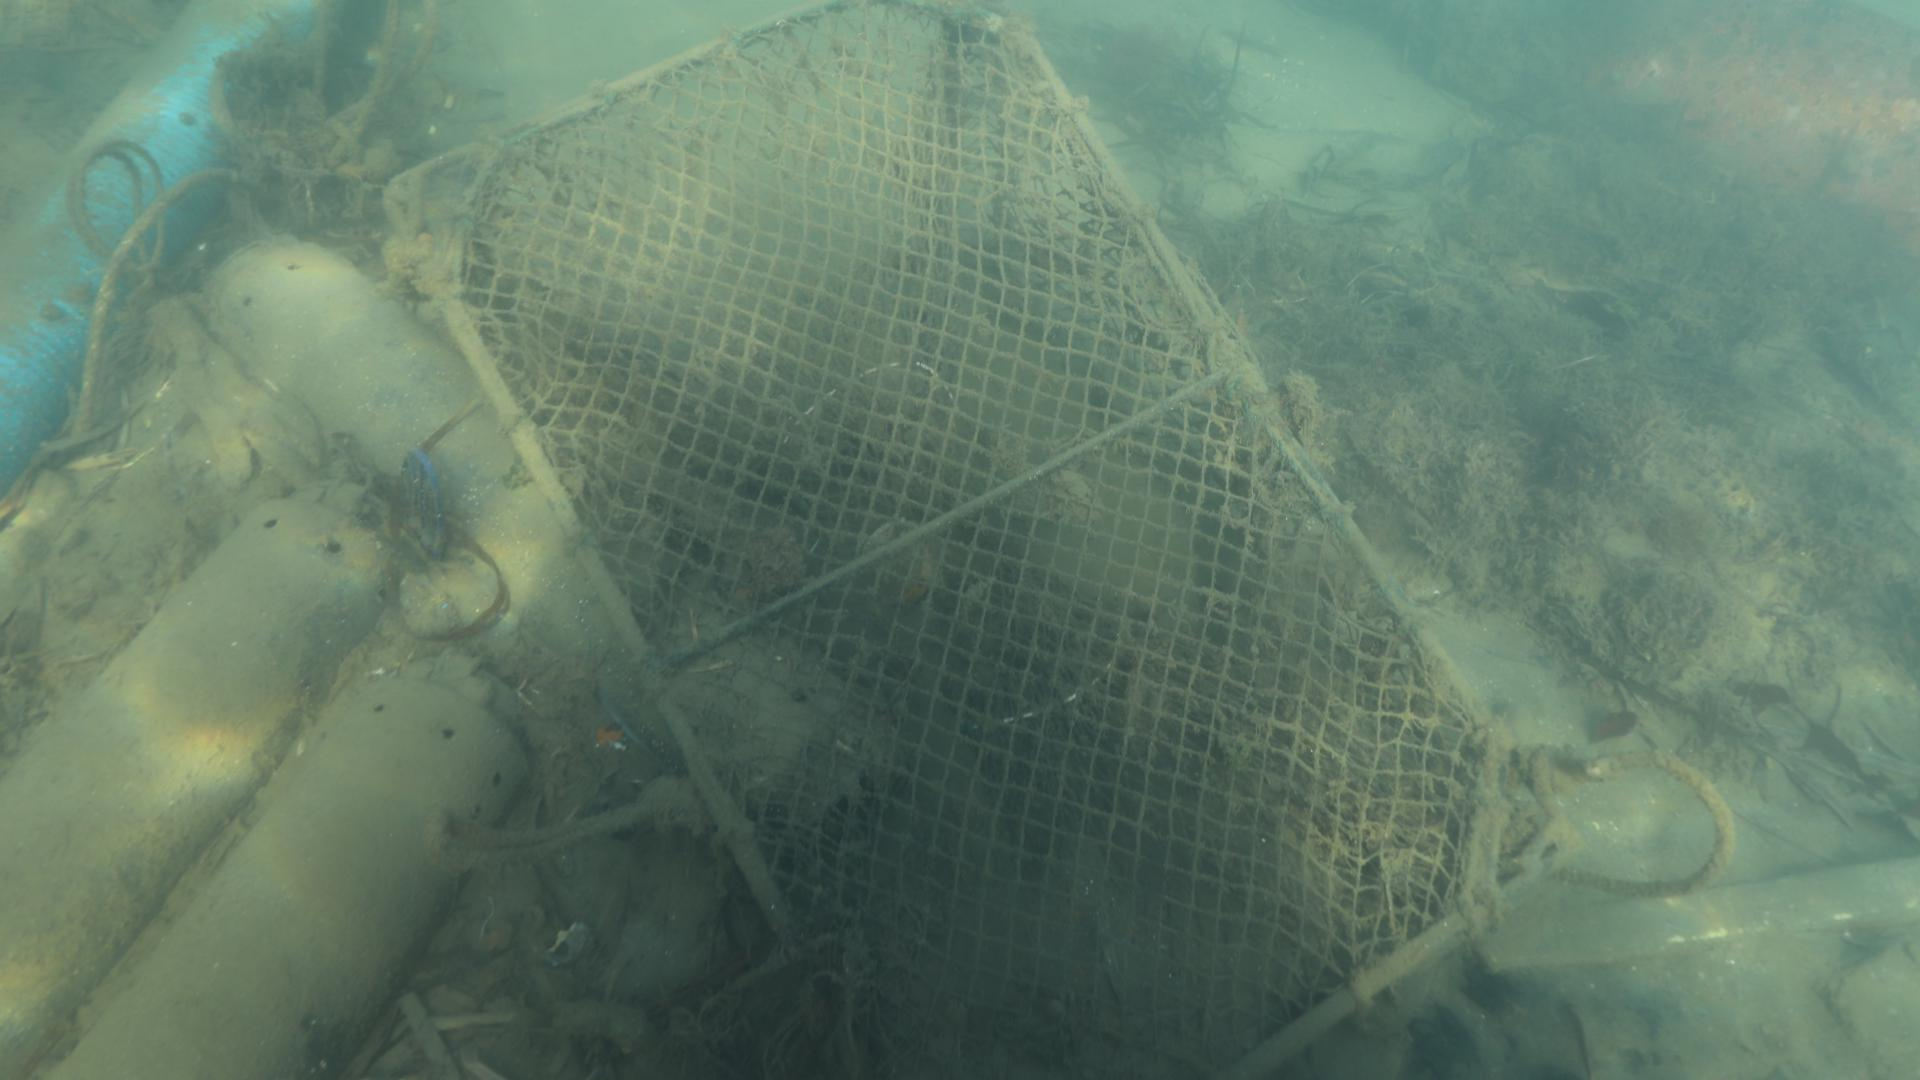eel fish trap: (193, 225, 881, 815), (0, 480, 392, 1080), (54, 647, 534, 1080)
rectangular fish trap: (377, 0, 1586, 1080)
rope: (73, 164, 240, 433), (1545, 744, 1731, 901)
